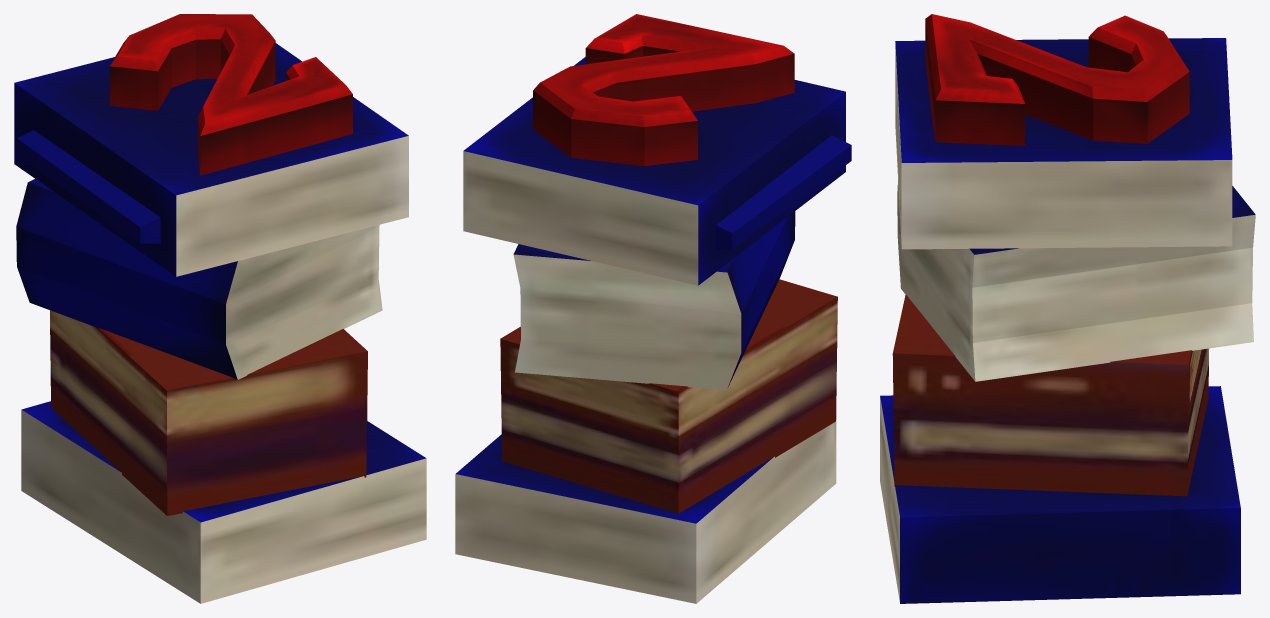
The model's file is MINI05_Books_2.fbx.
The picture shows the model from 3 angles, left to right: view 1: azimuth 30°, elevation 25°; view 2: azimuth 150°, elevation 25°; view 3: azimuth 270°, elevation 25°; orthographic projection. The views are drawn at different scales.
Visible parts, largest first — view 1: MINI05_Books_2_Model; view 2: MINI05_Books_2_Model; view 3: MINI05_Books_2_Model.
Part boxes in pixels (x1,y1,x2,y2): MINI05_Books_2_Model: [14, 14, 426, 603]; MINI05_Books_2_Model: [455, 14, 851, 603]; MINI05_Books_2_Model: [880, 14, 1255, 603].
Size of the model in its own units: 219 by 341 by 241.
1 material, 1 textured.
